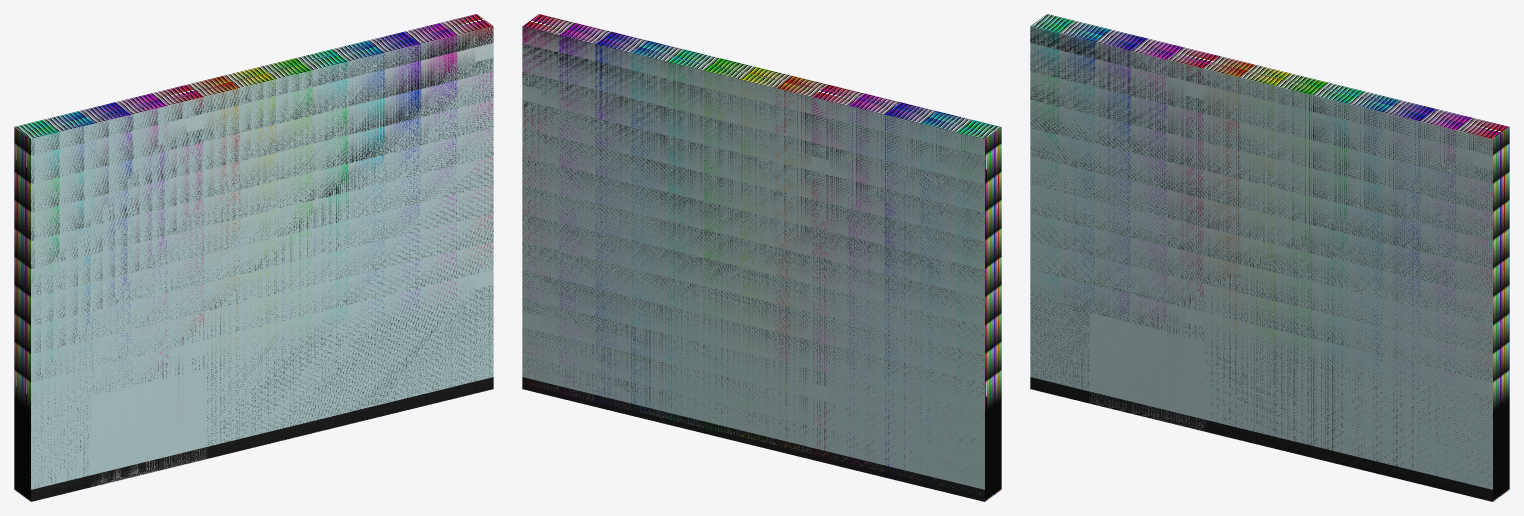
The model's file is interiorWall_line_4.fbx.
The picture shows the model from 3 angles, left to right: view 1: azimuth 30°, elevation 25°; view 2: azimuth 150°, elevation 25°; view 3: azimuth 330°, elevation 25°; orthographic projection.
Visible parts, largest first — view 1: interiorWall_line_4, trigger; view 2: interiorWall_line_4, trigger; view 3: interiorWall_line_4, trigger.
Part boxes in pixels (box(x1,y1,x2,y2)): interiorWall_line_4: box(31, 26, 493, 501); trigger: box(14, 14, 493, 501); interiorWall_line_4: box(522, 26, 984, 501); trigger: box(522, 14, 1001, 501); interiorWall_line_4: box(1030, 26, 1492, 501); trigger: box(1030, 14, 1509, 501).
Size of what is drawn, in the model's own units: 400 by 300 by 25.
